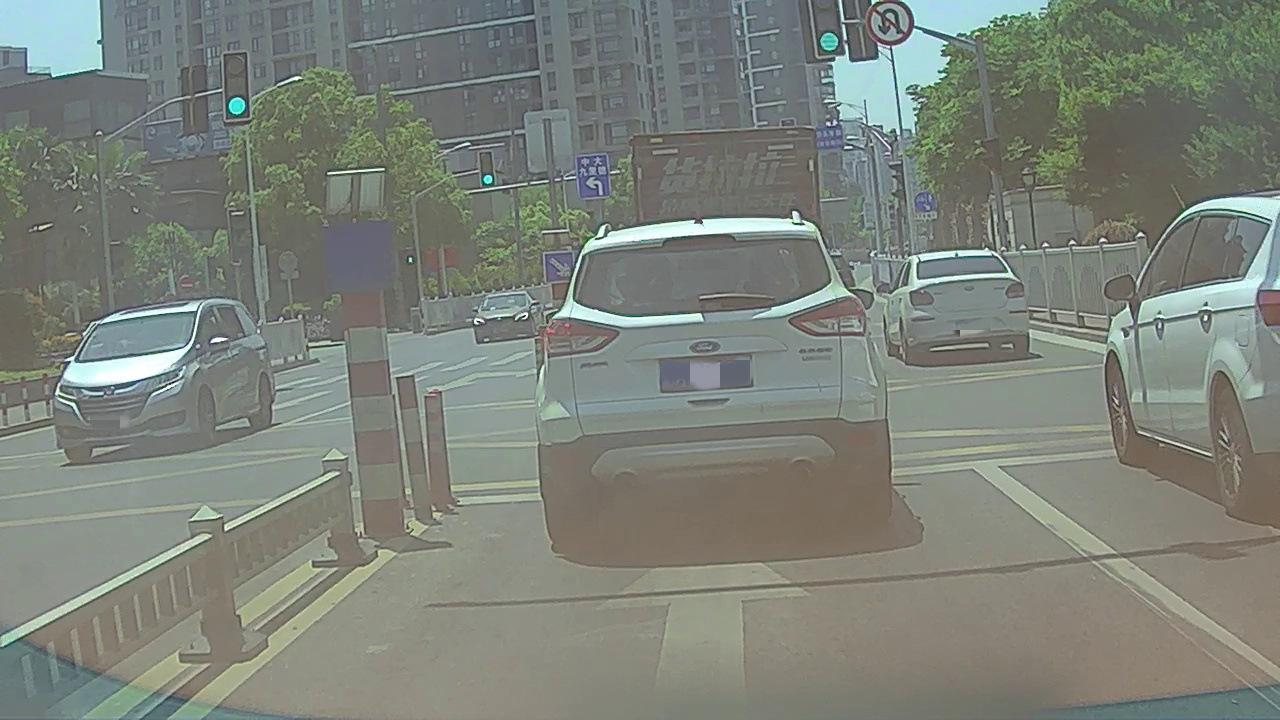traffic_light: (812, 3, 843, 57), (225, 53, 250, 119), (480, 152, 494, 185)
